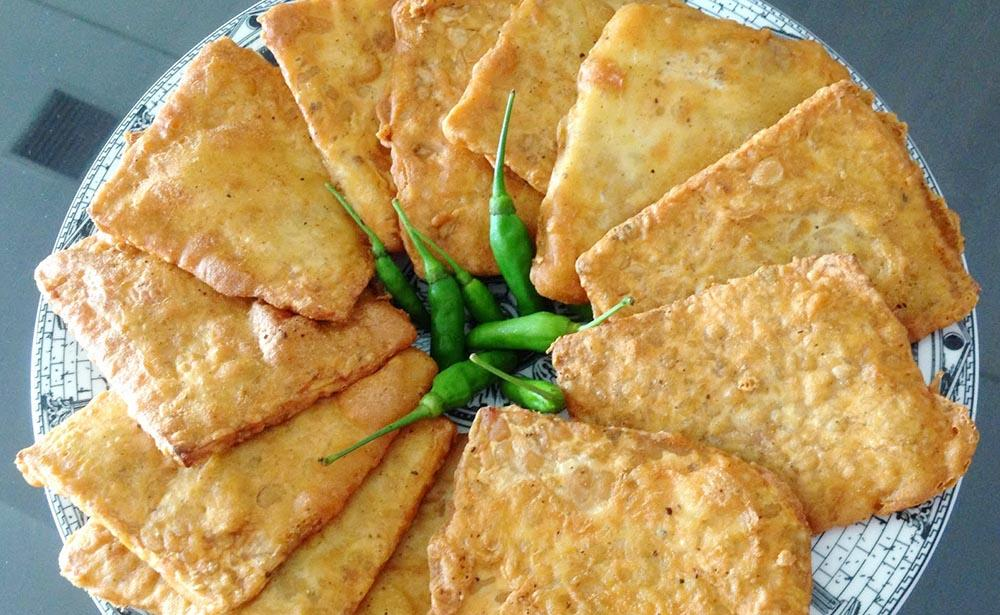buah_sayur_lainnya: (414, 262, 534, 410)
kacang_legume: (123, 467, 411, 614), (490, 476, 752, 615), (680, 306, 862, 446), (297, 5, 574, 95), (174, 102, 289, 260), (721, 159, 882, 260), (130, 310, 270, 420), (599, 49, 717, 168)
